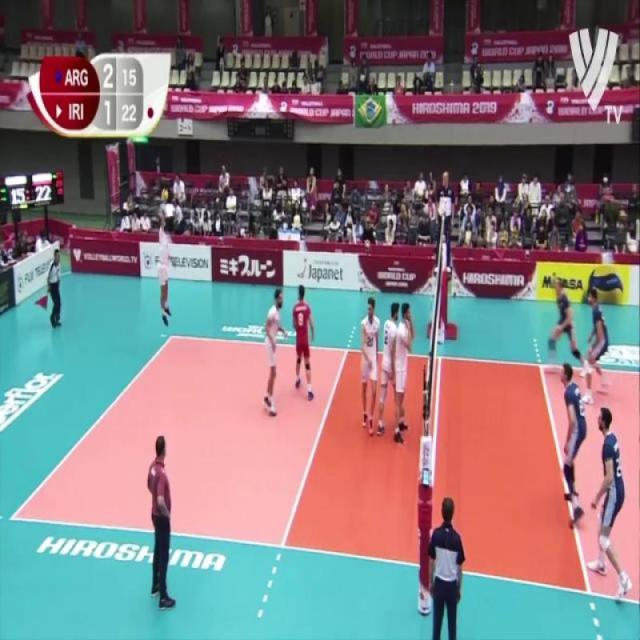volleyball: (586, 266, 623, 305), (162, 190, 170, 203)
